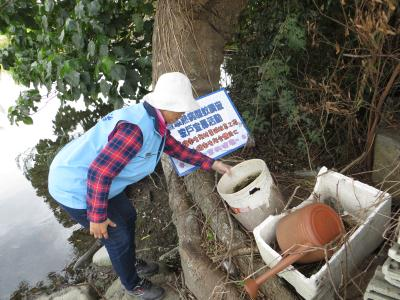bowl: (271, 201, 351, 269)
bucket: (212, 157, 287, 236)
styrofoam: (249, 164, 394, 299)
